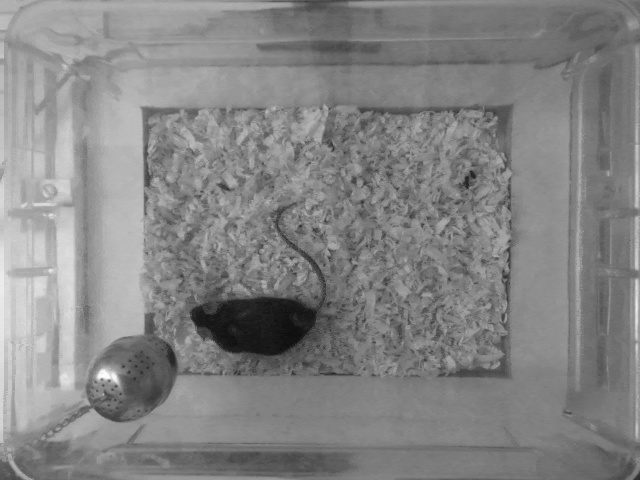mice: (187, 194, 327, 354)
